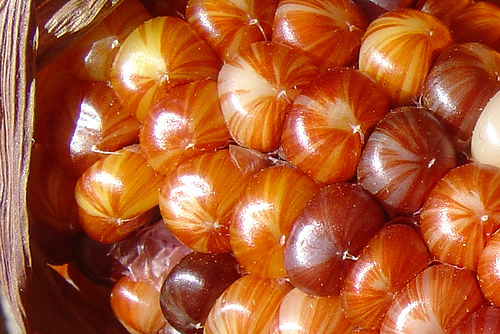corn: (0, 1, 499, 333)
